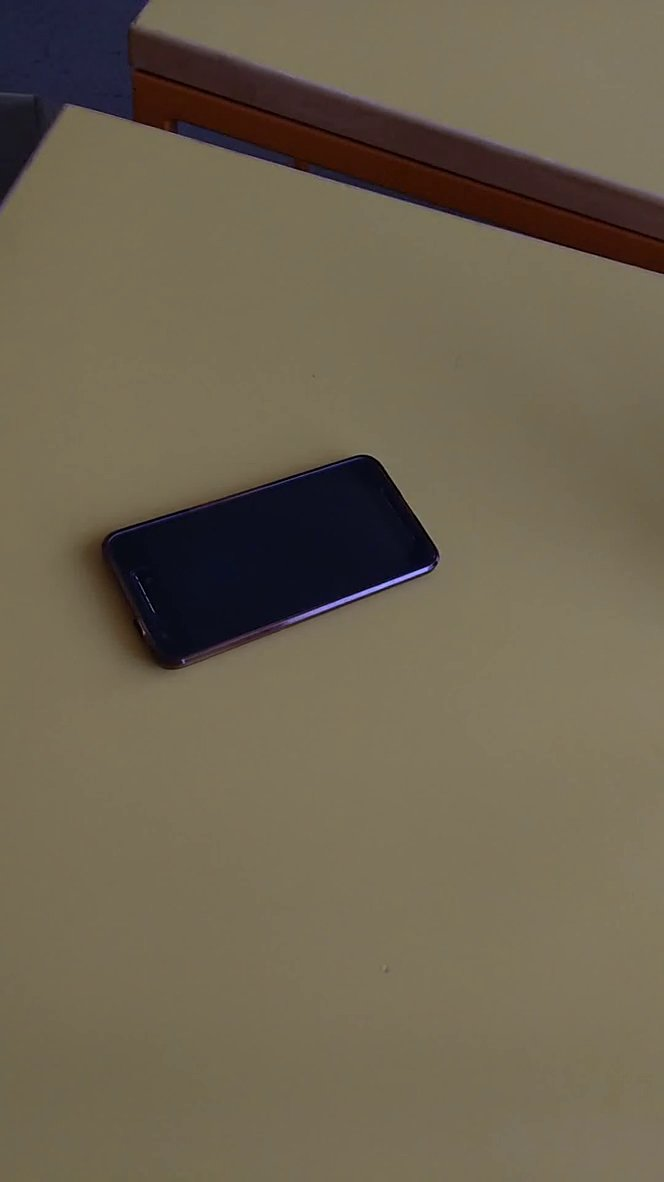phone: (93, 439, 452, 690)
